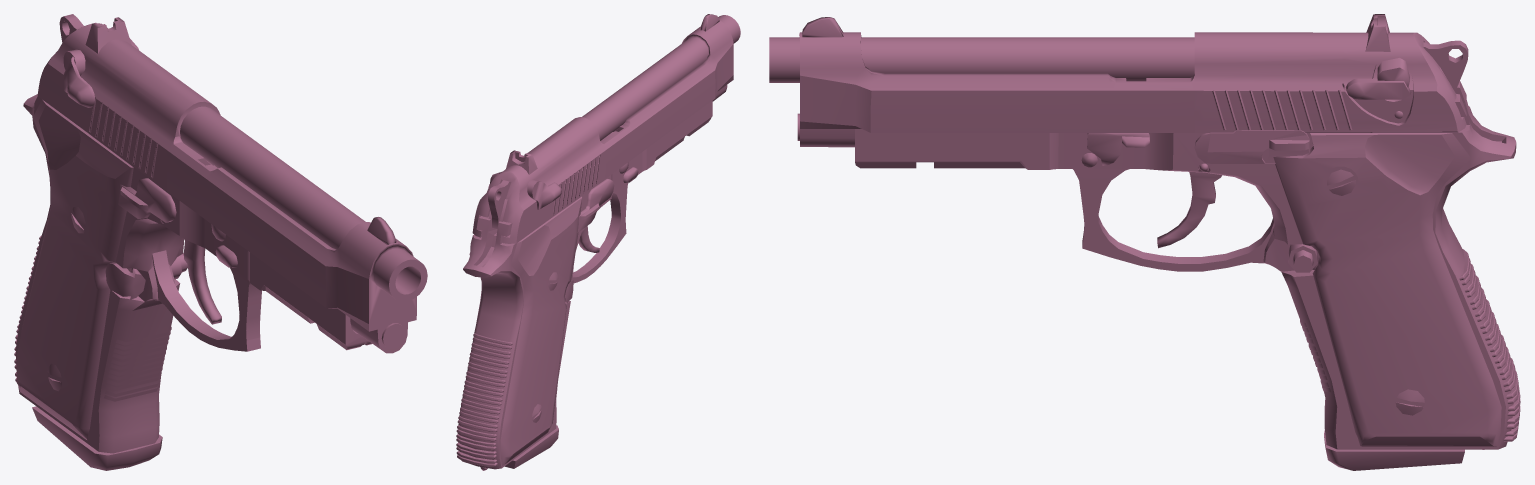
The model's file is piupiu.fbx.
The picture shows the model from 3 angles, left to right: view 1: azimuth 30°, elevation 25°; view 2: azimuth 150°, elevation 25°; view 3: azimuth 270°, elevation 25°; orthographic projection. The views are drawn at different scales.
Parts seen in each view (by area): view 1: dual_berettas:weapon_left; view 2: dual_berettas:weapon_left; view 3: dual_berettas:weapon_left.
Part boxes in pixels (<box>): dual_berettas:weapon_left: <box>14,14,427,470</box>; dual_berettas:weapon_left: <box>456,14,740,470</box>; dual_berettas:weapon_left: <box>769,14,1520,470</box>.
Size of the model in its own units: 1.41 by 6.71 by 10.41.
